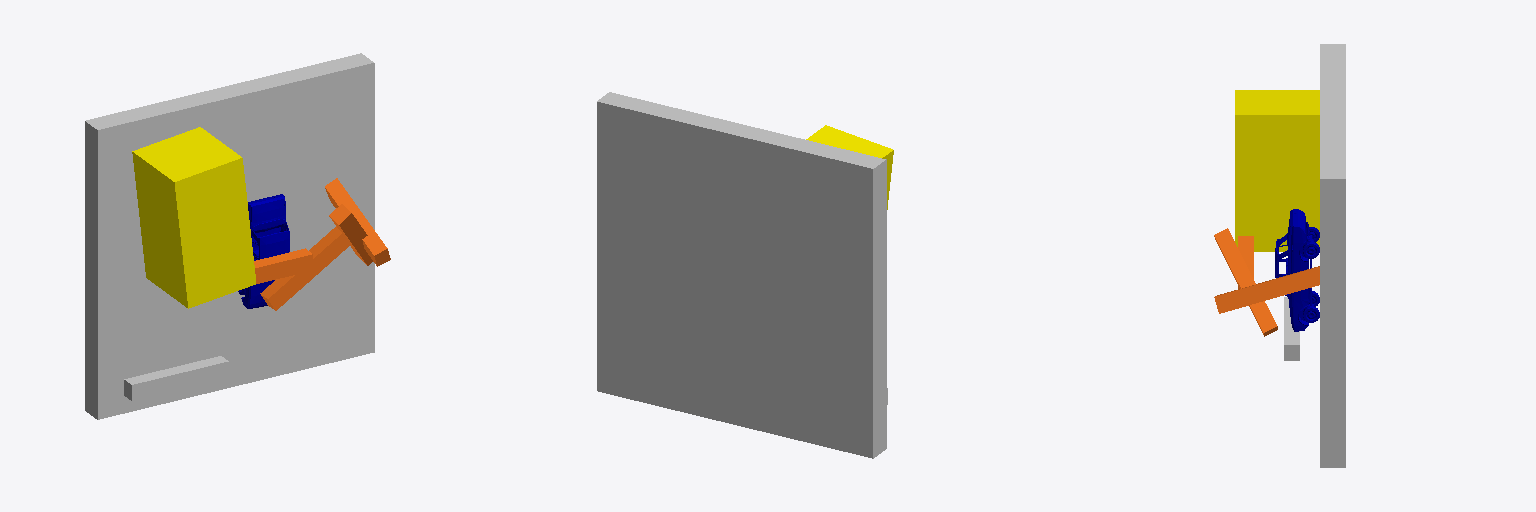
File: tb8_Moskvitch.obj
3 renders of one model, left to right at view 1: azimuth 30°, elevation 25°; view 2: azimuth 150°, elevation 25°; view 3: azimuth 270°, elevation 25°, orthographic.
Visible parts, largest first — view 1: Object.2, Object.3, Object.5, Object.1, Object.4; view 2: Object.2, Object.3; view 3: Object.3, Object.2, Object.5, Object.1, Object.4.
Boxes of the visible parts, <box> form: Object.2: <box>85,53,374,419</box>; Object.3: <box>132,127,255,308</box>; Object.5: <box>254,178,390,310</box>; Object.1: <box>238,194,289,308</box>; Object.4: <box>124,356,228,400</box>; Object.2: <box>597,92,886,458</box>; Object.3: <box>806,125,893,209</box>; Object.3: <box>1235,90,1319,251</box>; Object.2: <box>1320,44,1345,467</box>; Object.5: <box>1214,228,1319,336</box>; Object.1: <box>1275,209,1319,331</box>; Object.4: <box>1284,297,1299,360</box>.
Bounding box in the file's own units: 30887 × 30888 × 12738.